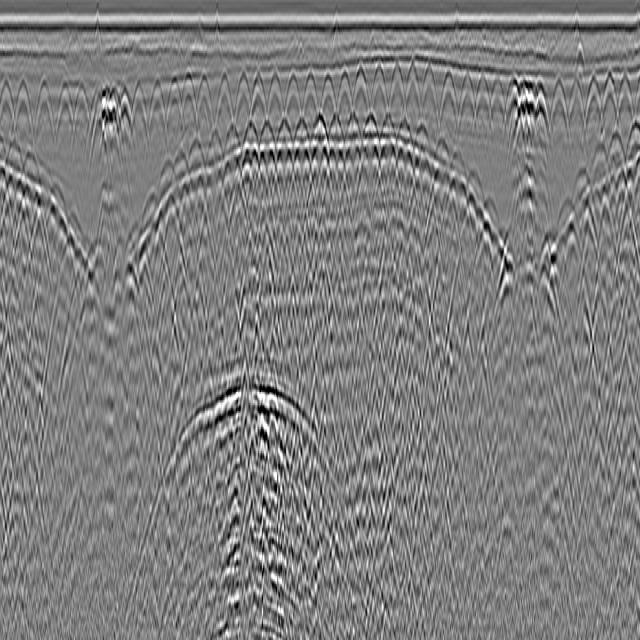hyperbola: (351, 49, 378, 140), (438, 57, 464, 146), (70, 55, 90, 166), (368, 36, 388, 146), (229, 62, 250, 165), (192, 71, 216, 157), (13, 55, 33, 158), (321, 52, 342, 148), (213, 61, 233, 157), (34, 68, 54, 163), (54, 68, 76, 153), (178, 65, 198, 156), (385, 39, 404, 134), (420, 49, 438, 149), (455, 46, 475, 136), (301, 49, 318, 154), (548, 65, 568, 154), (146, 64, 165, 156), (564, 68, 584, 154), (282, 55, 301, 144), (616, 62, 634, 154), (268, 52, 284, 152), (250, 62, 268, 149), (164, 74, 184, 152), (128, 74, 148, 151), (582, 68, 601, 146), (0, 61, 17, 147), (334, 61, 354, 134), (533, 74, 551, 152), (89, 80, 105, 166), (403, 55, 421, 131), (505, 62, 519, 152), (474, 71, 491, 144), (600, 71, 617, 141), (491, 61, 505, 144), (117, 77, 132, 148)
